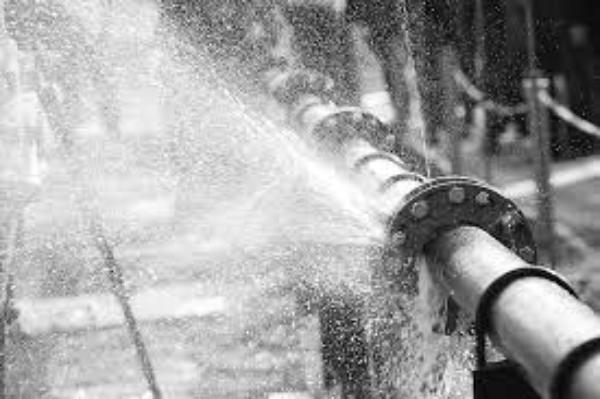water: (308, 162, 464, 346)
